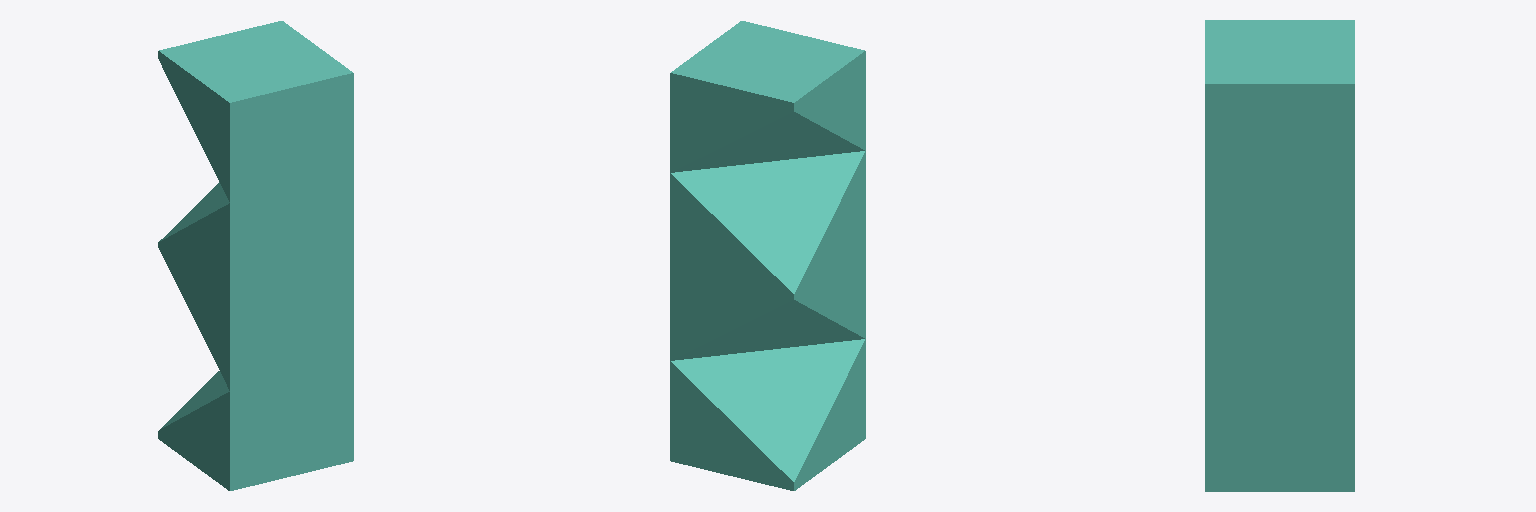
robot.urdf — obj_1:
<robot name="obj_1" version="1.0">
  <link name="link_1">
    <collision name="1-collision.001">
      <origin rpy="0.00000 0.00000 0.00000" xyz="-0.32621 0.27883 0.06476"/>
      <geometry>
        <mesh filename="../meshes/obj/1-collision.001.obj" scale="1.00000 1.00000 1.00000"/>
      </geometry>
    </collision>
    <collision name="1-collision.002">
      <origin rpy="0.00000 0.00000 0.00000" xyz="-0.31256 0.29239 0.38645"/>
      <geometry>
        <mesh filename="../meshes/obj/1-collision.002.obj" scale="1.00000 1.00000 1.00000"/>
      </geometry>
    </collision>
    <collision name="1-collision.003">
      <origin rpy="0.00000 0.00000 0.00000" xyz="-0.30868 0.28560 0.23357"/>
      <geometry>
        <mesh filename="../meshes/obj/1-collision.003.obj" scale="1.00000 1.00000 1.00000"/>
      </geometry>
    </collision>
    <inertial>
      <inertia ixx="0.00019" ixy="0.00001" ixz="0.00000" iyy="0.00019" iyz="-0.00000" izz="0.00005"/>
      <origin rpy="0.00000 0.00000 0.00000" xyz="-0.31238 0.27859 0.22565"/>
      <mass value="0.01000"/>
    </inertial>
    <visual name="1">
      <material name="turnarrow"/>
      <origin rpy="0.00000 -1.57080 0.00000" xyz="-0.34543 0.30897 0.23752"/>
      <geometry>
        <mesh filename="../meshes/obj/6 part puzzle cube.obj" scale="0.00500 0.00500 0.00500"/>
      </geometry>
    </visual>
  </link>
  <material name="turnarrow">
    <color rgba="0.44314 0.80000 0.74118 1.00000"/>
  </material>
</robot>

--- Facts derived from the render (not from the file) ---
The picture shows the robot from 3 angles, left to right: view 1: azimuth 30°, elevation 25°; view 2: azimuth 150°, elevation 25°; view 3: azimuth 270°, elevation 25°; orthographic projection.
Robot: obj_1 — 1 links, 0 joints (none); root link link_1; default pose: every joint at zero.
Links seen in each view (by area): view 1: link_1; view 2: link_1; view 3: link_1.
Boxes of the visible links, left/top/right/bottom form: link_1: left=158, top=21, right=353, bottom=490; link_1: left=670, top=21, right=865, bottom=490; link_1: left=1205, top=20, right=1354, bottom=491.
Size in the robot's own frame: 0.15 by 0.15 by 0.45 metres.
Meshes: 1 distinct files referenced, 1 mesh visuals loaded (1 OBJ).